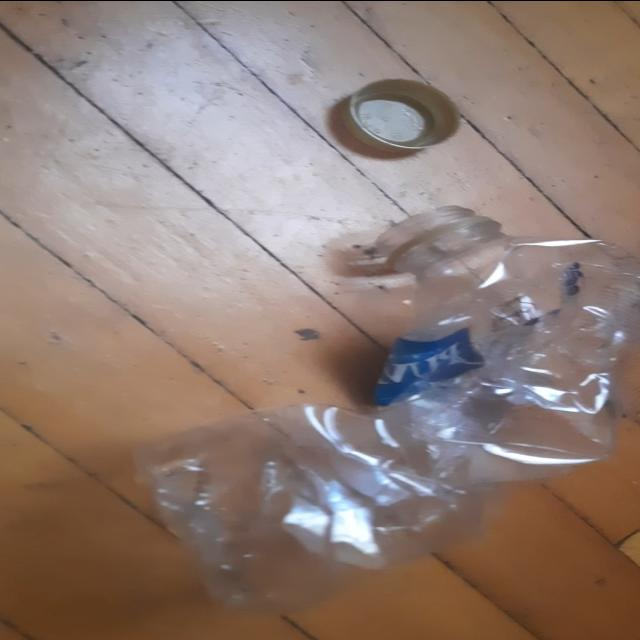Plastic: (131, 207, 637, 613)
